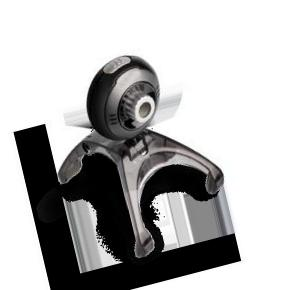webcam: (76, 51, 170, 147)
